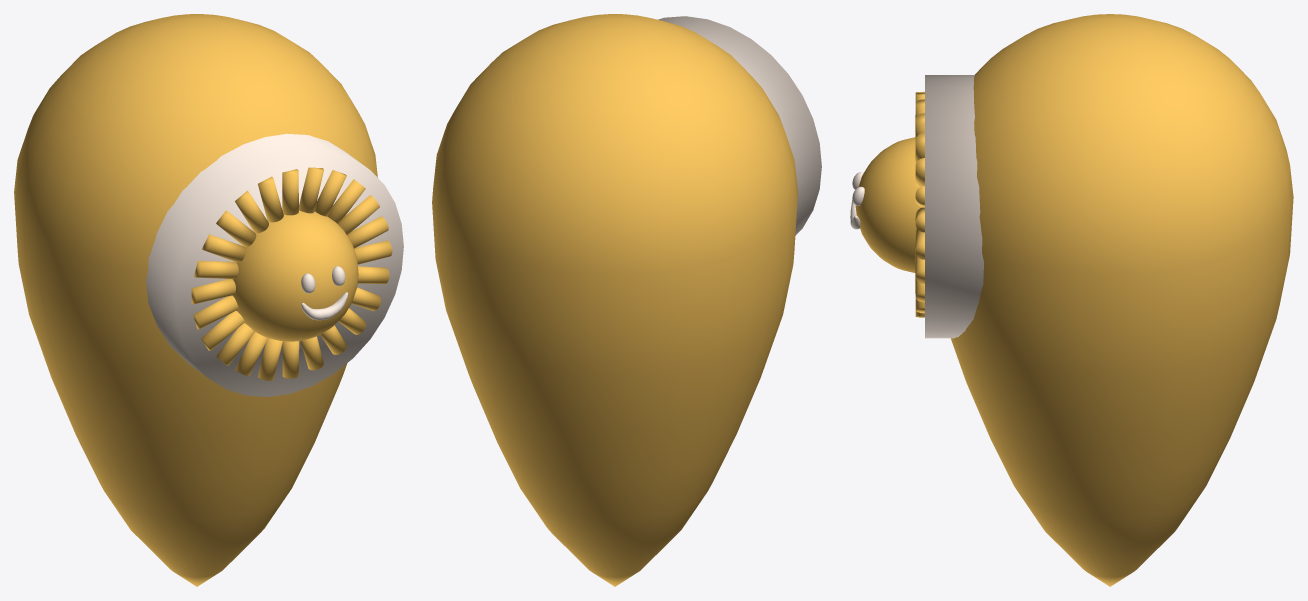
Rendered from zuiderbadPin.glb.
3 views of the same model, side by side, from view 1: azimuth 30°, elevation 25°; view 2: azimuth 150°, elevation 25°; view 3: azimuth 270°, elevation 25° (orthographic).
Visible parts, largest first — view 1: pin.001, Cylinder.012, Sphere.037, Cylinder.076, Cylinder.077, Cylinder.060, Cylinder.078, Cylinder.061, Cylinder.058, Cylinder.071, Cylinder.075, Cylinder.074 (+13 smaller); view 2: pin.001, Cylinder.012; view 3: pin.001, Cylinder.012, Sphere.037.
Boxes of the visible parts, <box> form: pin.001: <box>14,14,377,586</box>; Cylinder.012: <box>146,133,403,396</box>; Sphere.037: <box>232,210,358,341</box>; Cylinder.076: <box>191,279,235,304</box>; Cylinder.077: <box>193,295,238,329</box>; Cylinder.060: <box>299,167,323,213</box>; Cylinder.078: <box>201,311,244,350</box>; Cylinder.061: <box>314,170,346,216</box>; Cylinder.058: <box>282,169,298,215</box>; Cylinder.071: <box>258,176,283,222</box>; Cylinder.075: <box>194,261,238,279</box>; Cylinder.074: <box>202,234,245,262</box>; pin.001: <box>432,14,797,586</box>; Cylinder.012: <box>658,16,821,235</box>; pin.001: <box>951,14,1293,586</box>; Cylinder.012: <box>925,75,983,338</box>; Sphere.037: <box>855,137,924,272</box>.
Size of the model in its own units: 0.2435 by 0.4072 by 0.2942.
